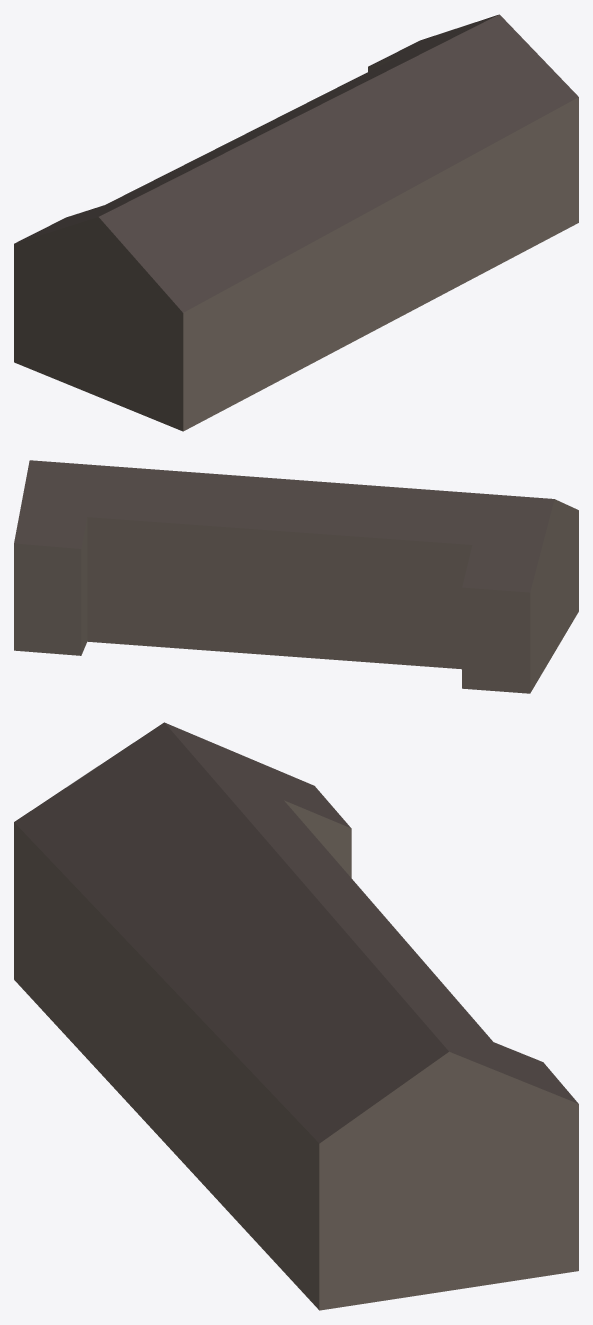
3 renders of one model, top to bottom at view 1: azimuth 30°, elevation 25°; view 2: azimuth 150°, elevation 25°; view 3: azimuth 270°, elevation 25°, orthographic. The views are drawn at different scales.
Visible parts, largest first — view 1: HP-w1198842496; view 2: HP-w1198842496; view 3: HP-w1198842496.
Part boxes in pixels (<box>): HP-w1198842496: <box>14,14,578,431</box>; HP-w1198842496: <box>14,460,578,693</box>; HP-w1198842496: <box>14,722,578,1310</box>.
Bounding box in the file's own units: 30 × 9.11 × 19.5.
